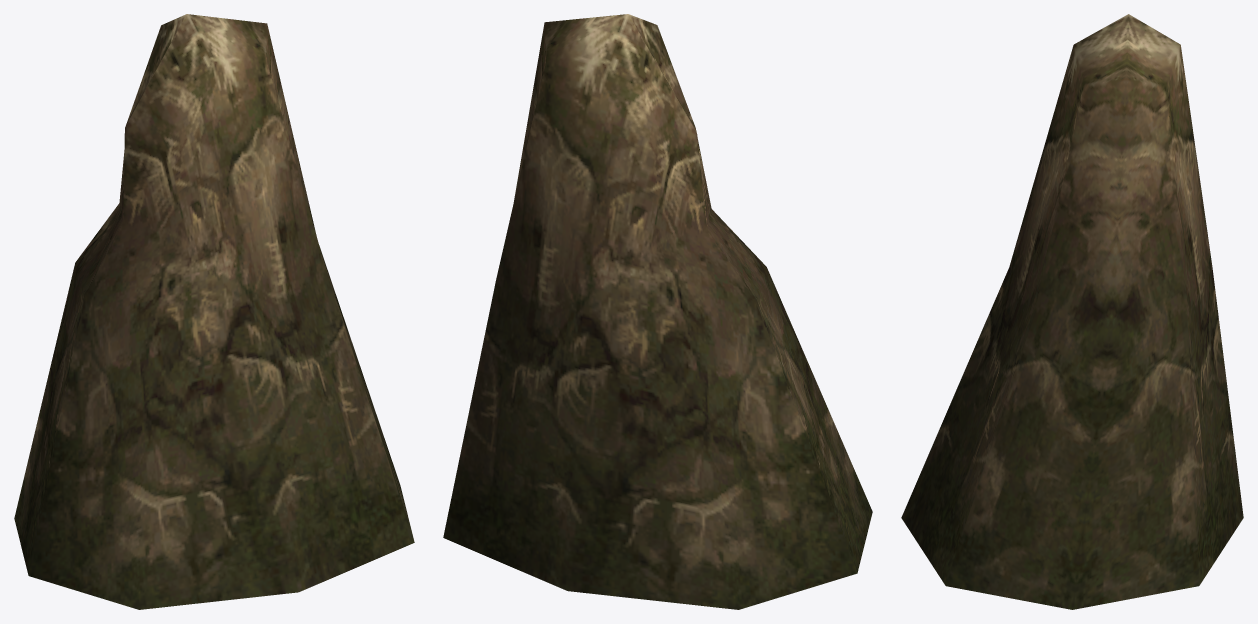
File: zshh_shitou_02.FBX
3 views of the same model, side by side, from view 1: azimuth 30°, elevation 25°; view 2: azimuth 150°, elevation 25°; view 3: azimuth 270°, elevation 25° (orthographic). The views are drawn at different scales.
Visible parts, largest first — view 1: zshh_shitou_02; view 2: zshh_shitou_02; view 3: zshh_shitou_02.
Part boxes in pixels (<box>): zshh_shitou_02: <box>14,14,414,609</box>; zshh_shitou_02: <box>443,14,872,609</box>; zshh_shitou_02: <box>901,14,1243,609</box>.
Bounding box in the file's own units: 244 × 191 × 311.
